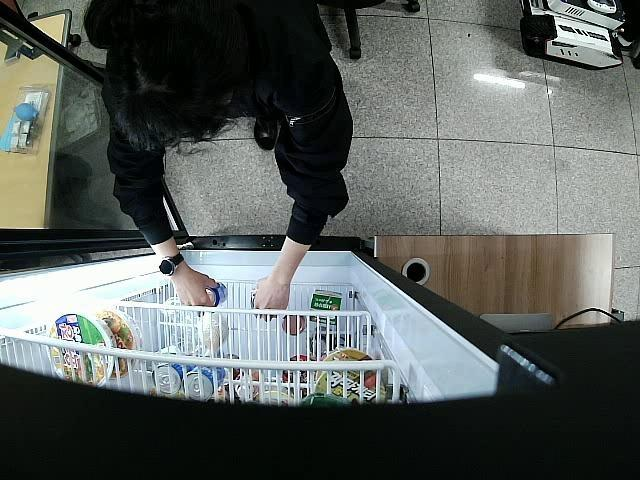13_pocariSweat: (198, 279, 228, 307)
